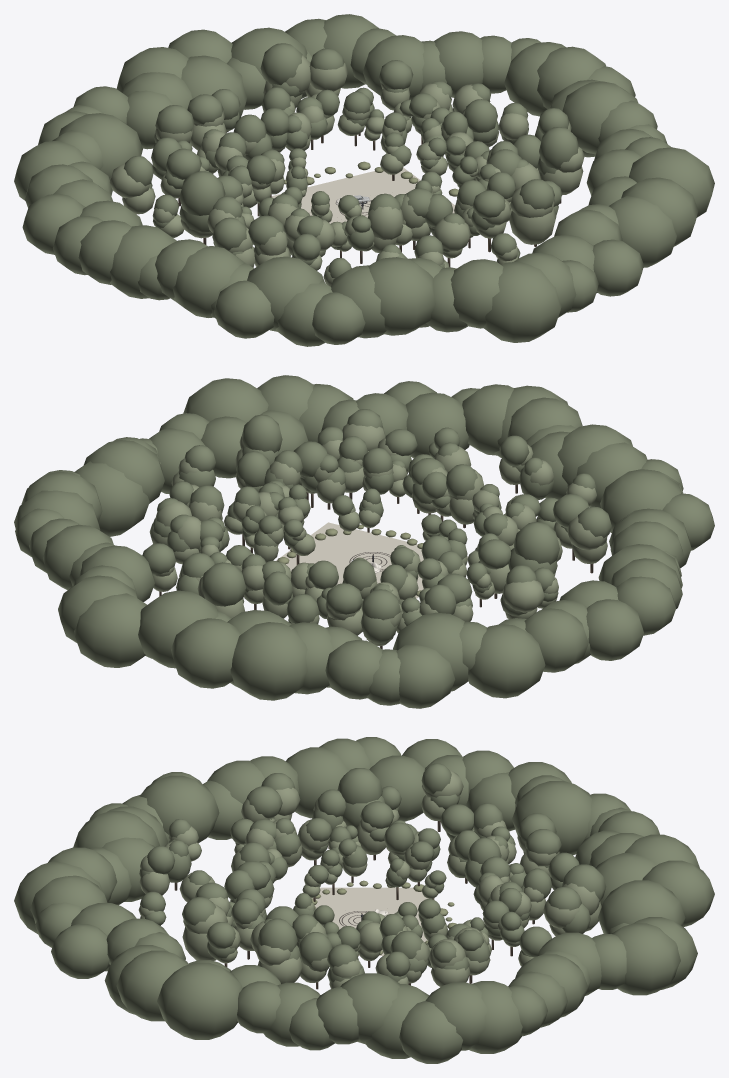
3 renders of one model, top to bottom at view 1: azimuth 30°, elevation 25°; view 2: azimuth 150°, elevation 25°; view 3: azimuth 270°, elevation 25°, orthographic. The views are drawn at different scales.
Parts seen in each view (by area): view 1: backdrop_48, backdrop_44, backdrop_37, backdrop_55, backdrop_58, backdrop_00, backdrop_39, backdrop_47, backdrop_40, backdrop_34, backdrop_24, dusty_pad (+81 smaller); view 2: backdrop_18, backdrop_26, backdrop_12, backdrop_16, backdrop_14, dusty_pad, backdrop_01, backdrop_23, backdrop_30, backdrop_28, backdrop_40, backdrop_24 (+74 smaller); view 3: backdrop_58, backdrop_11, backdrop_24, backdrop_40, backdrop_56, backdrop_14, backdrop_02, dusty_pad, backdrop_52, backdrop_16, backdrop_04, backdrop_34 (+76 smaller).
Part boxes in pixels (box(x1,y1,x2,y2)): backdrop_48: box(483, 261, 561, 342); backdrop_44: box(368, 257, 435, 335); backdrop_37: box(172, 246, 245, 317); backdrop_55: box(609, 196, 676, 267); backdrop_58: box(629, 147, 714, 217); backdrop_00: box(562, 81, 638, 154); backdrop_39: box(214, 280, 274, 338); backdrop_47: box(450, 259, 503, 328); backdrop_40: box(247, 256, 324, 331); backdrop_34: box(110, 225, 176, 298); backdrop_24: box(58, 113, 142, 180); dusty_pad: box(271, 167, 455, 223); backdrop_18: box(230, 622, 307, 700); backdrop_26: box(468, 624, 545, 698); backdrop_12: box(74, 593, 146, 667); backdrop_16: box(171, 618, 241, 688); backdrop_14: box(138, 590, 218, 668); dusty_pad: box(276, 522, 467, 598); backdrop_01: box(74, 461, 149, 536); backdrop_23: box(396, 644, 455, 708); backdrop_30: box(586, 599, 643, 660); backdrop_28: box(524, 608, 588, 672); backdrop_40: box(600, 469, 681, 532); backdrop_24: box(393, 612, 468, 691); backdrop_58: box(157, 962, 242, 1039); backdrop_11: box(611, 923, 680, 995); backdrop_24: box(512, 781, 592, 855); backdrop_40: box(140, 775, 219, 842); backdrop_56: box(116, 950, 188, 1021); backdrop_14: box(598, 880, 685, 933); backdrop_02: box(399, 1001, 462, 1063); dusty_pad: box(311, 887, 428, 955); backdrop_52: box(51, 924, 109, 978); backdrop_16: box(642, 860, 714, 927); backdrop_04: box(469, 981, 522, 1053); backdrop_34: box(286, 747, 348, 818).
Size of what is drawn, in the model's own units: 143 by 21.35 by 148.
